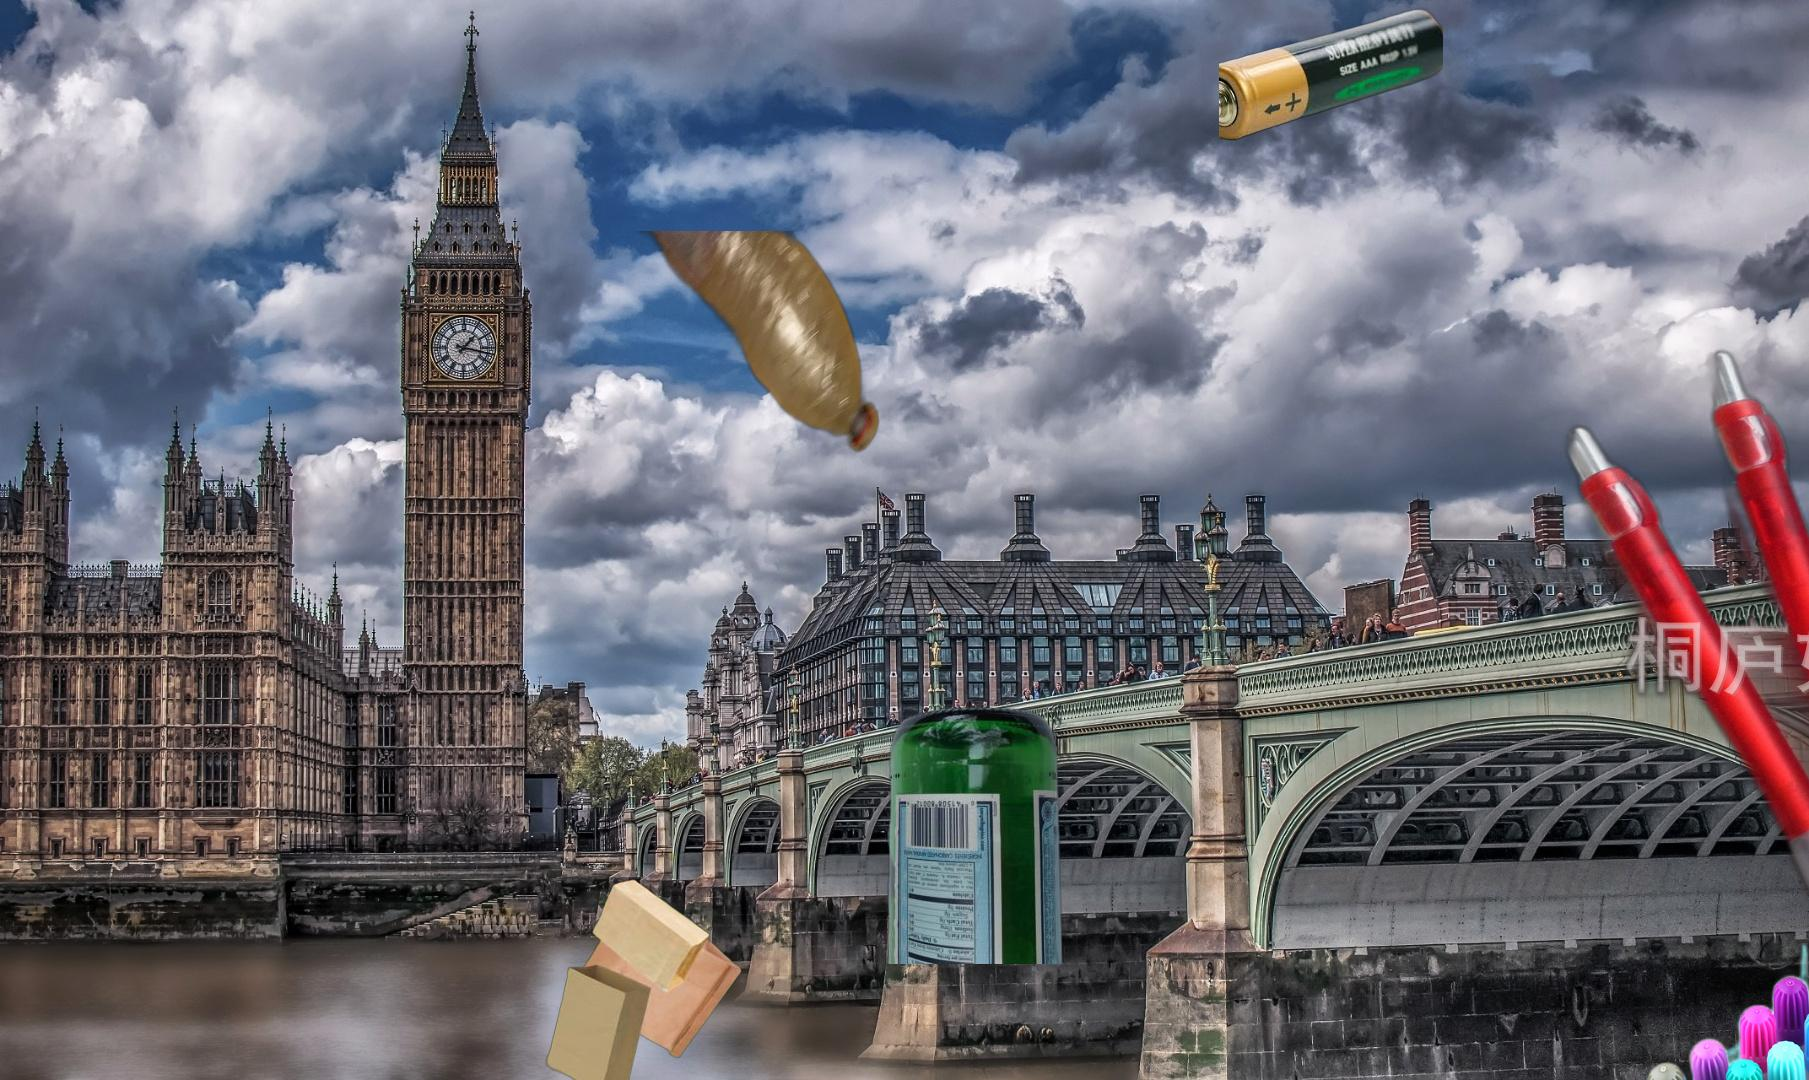battery: (1219, 6, 1443, 143)
glass: (882, 706, 1067, 964)
paper-bag: (544, 876, 743, 1080)
penholder: (1554, 274, 1809, 1080), (1437, 942, 1809, 1080)
plastic-bottles: (618, 231, 882, 456)
